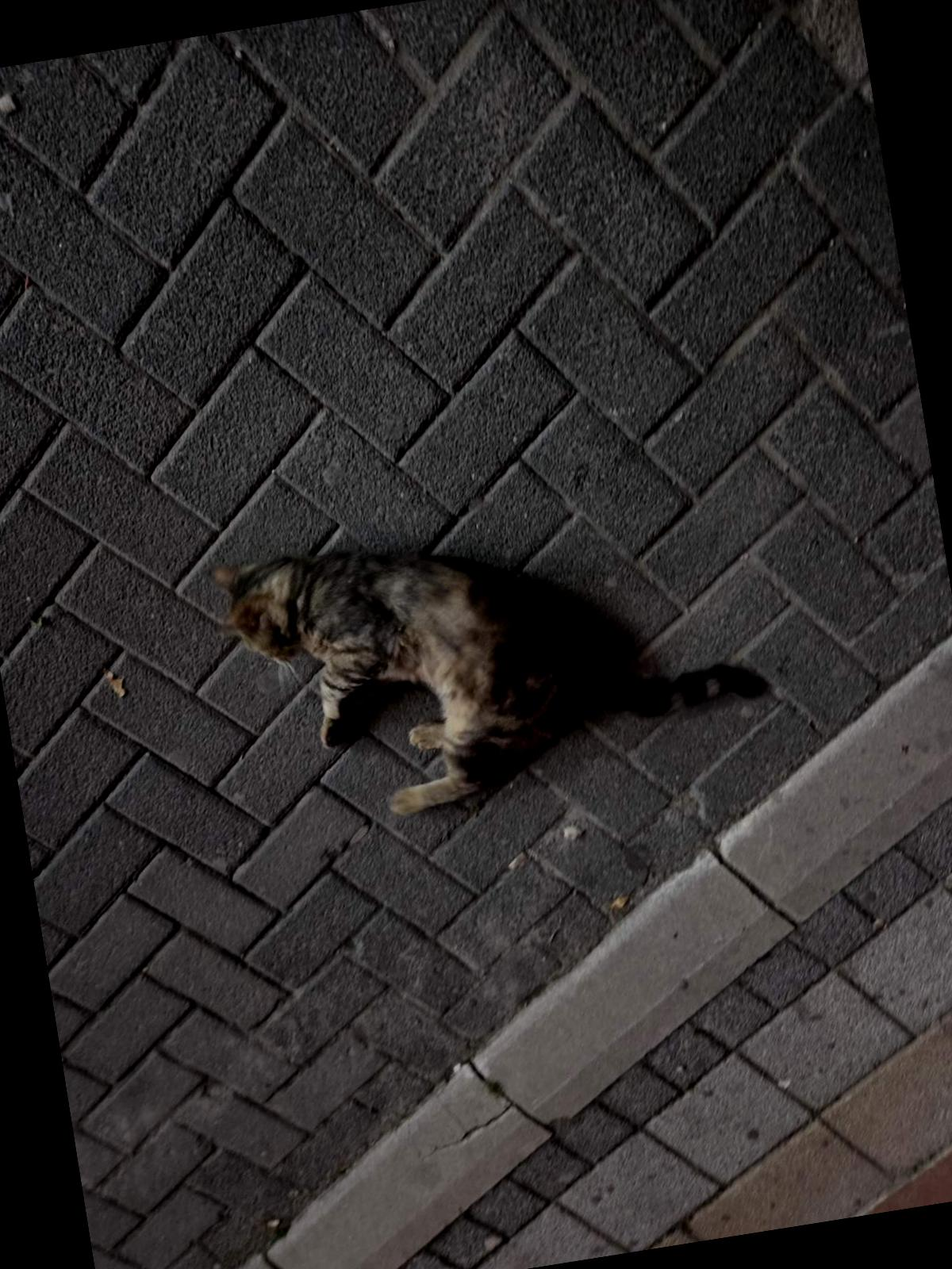macka: (204, 477, 781, 843)
